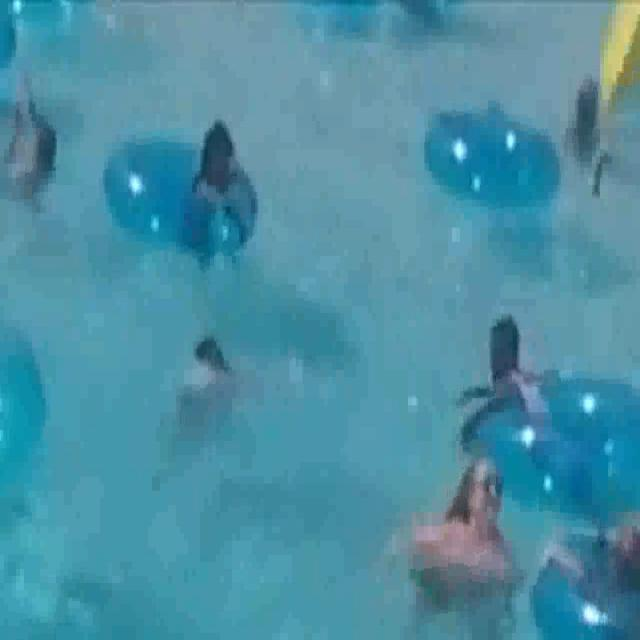drowning: (154, 303, 296, 476)
